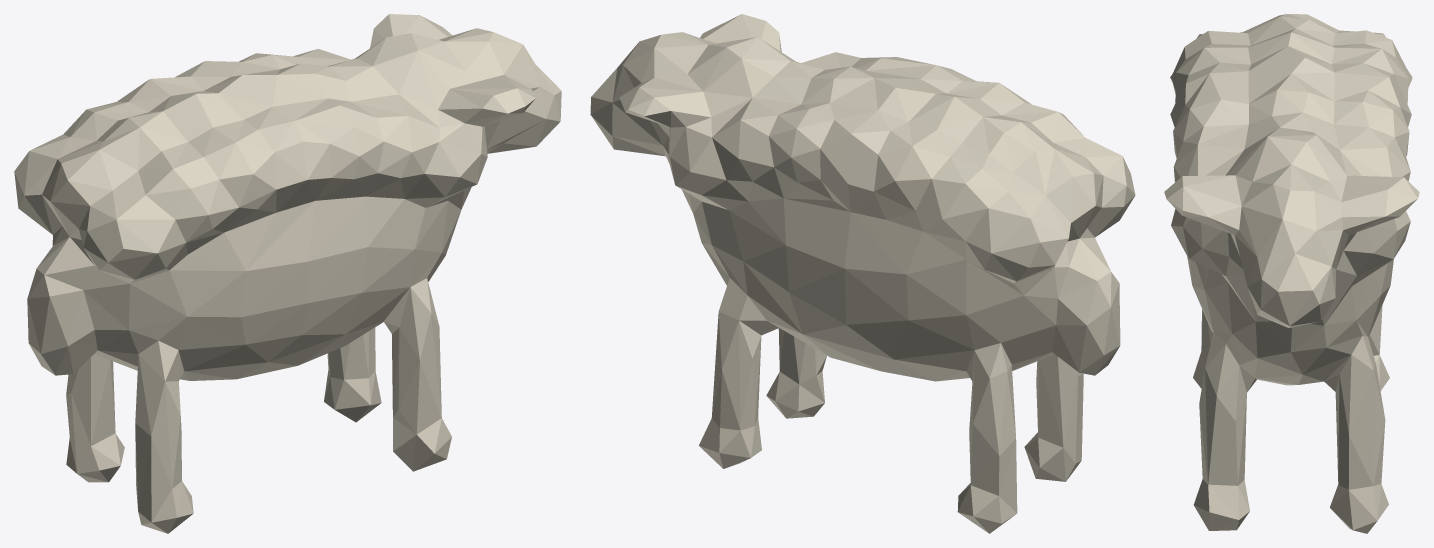
File: NEW_RECOVERY_018_LOD2.fbx
3 views of the same model, side by side, from view 1: azimuth 30°, elevation 25°; view 2: azimuth 150°, elevation 25°; view 3: azimuth 270°, elevation 25° (orthographic). The views are drawn at different scales.
Parts seen in each view (by area): view 1: Sheep_solid; view 2: Sheep_solid; view 3: Sheep_solid.
Boxes of the visible parts, left/top/right/bottom form: Sheep_solid: left=14, top=14, right=561, bottom=533; Sheep_solid: left=590, top=14, right=1135, bottom=533; Sheep_solid: left=1164, top=14, right=1419, bottom=533.
Size of the model in its own units: 260 by 108 by 190.
